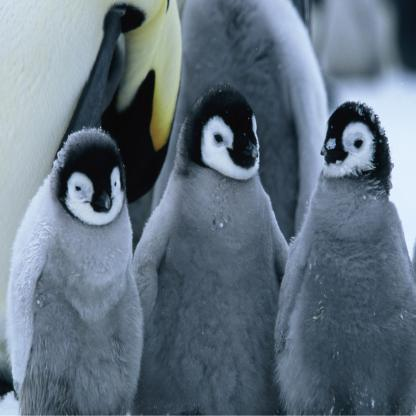Penguin: (125, 79, 309, 415), (260, 95, 413, 416), (6, 115, 148, 416)
